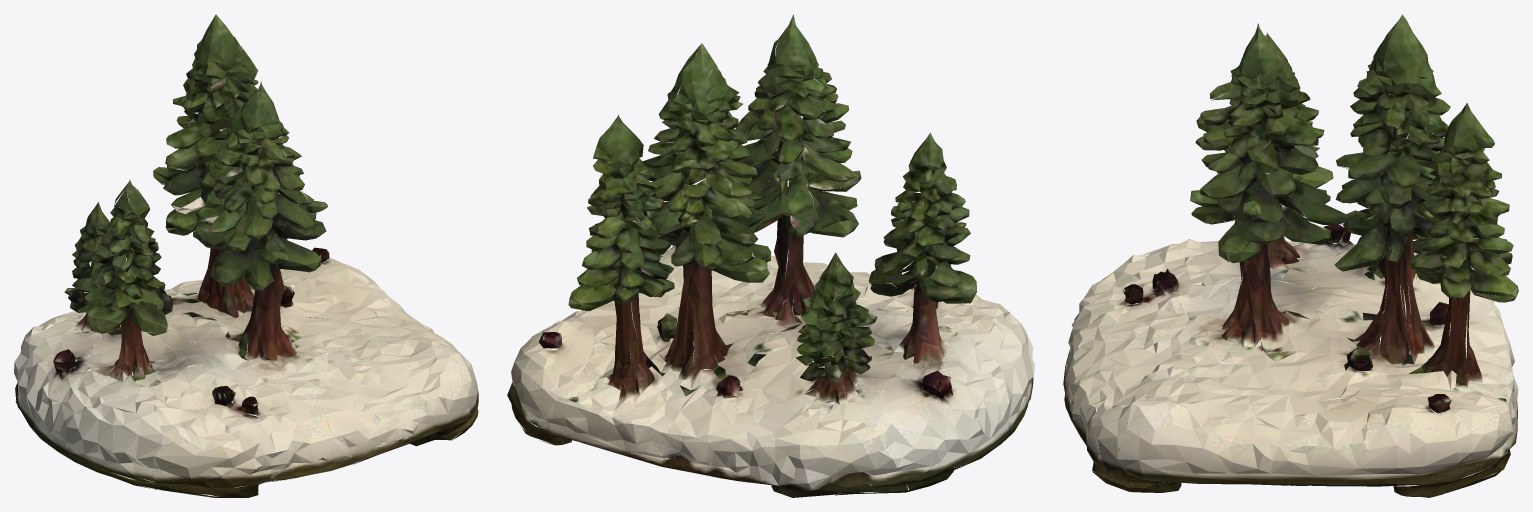
The model's file is wt-village-pines.glb.
The picture shows the model from 3 angles, left to right: view 1: azimuth 30°, elevation 25°; view 2: azimuth 150°, elevation 25°; view 3: azimuth 270°, elevation 25°; orthographic projection. The views are drawn at different scales.
Visible parts, largest first — view 1: tmpq8w61twc.ply; view 2: tmpq8w61twc.ply; view 3: tmpq8w61twc.ply.
Boxes of the visible parts, x1,y1,x2,y2 form: tmpq8w61twc.ply: (14,14,478,497); tmpq8w61twc.ply: (507,14,1034,497); tmpq8w61twc.ply: (1063,14,1518,497).
Bounding box in the file's own units: 6.1 × 5.45 × 5.57.
1 material, 1 textured.
